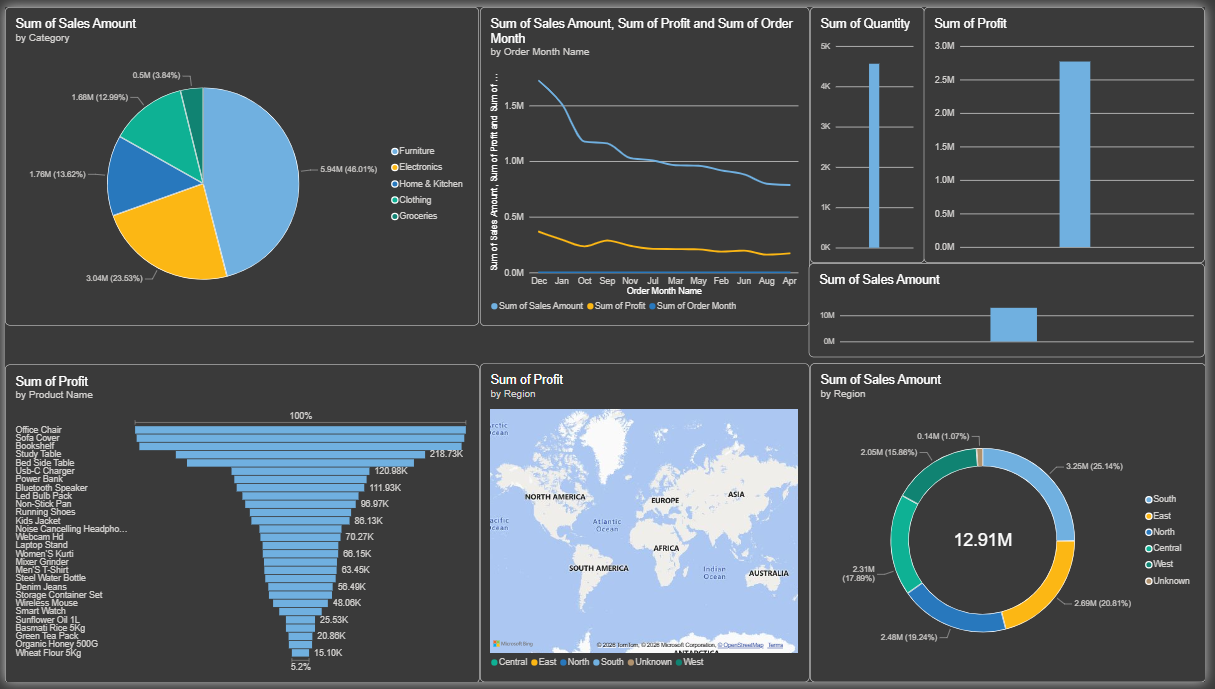

This screenshot's page, from the dashboard's own definition file:
{"tool":"powerbi","page":{"name":"P","canvas":[1920,1080],"ordinal":0},"visuals":[{"type":"donutChart","fields":{"Category":["Sales.Region"],"Y":["Sum(Sales.Sales Amount)"]},"box":[1287.9,570.2,634,510.5],"z":0},{"type":"funnel","fields":{"Category":["Sales.Product Name"],"Y":["Sum(Sales.Profit)"]},"box":[0,572.2,759.5,510.5],"z":1000},{"type":"filledMap","fields":{"Series":["Sales.Region"]},"box":[759.5,570.2,526.9,510.5],"z":2000},{"type":"pieChart","fields":{"Category":["Sales.Category"],"Y":["Sum(Sales.Sales Amount)"]},"box":[0,0,758.7,509.3],"z":3000},{"type":"lineChart","fields":{"Category":["Sales.Order Month Name"],"Y":["Sum(Sales.Sales Amount)","Sum(Sales.Profit)","Sum(Sales.Order Month)"]},"box":[759.5,0,527,510],"z":4000},{"type":"clusteredColumnChart","fields":{"Y":["Sum(Sales.Sales Amount)"]},"box":[1286.5,410.2,633.5,150],"z":4013},{"type":"clusteredColumnChart","fields":{"Y":["Sum(Sales.Quantity)"]},"box":[1287.2,0,183.1,409.9],"z":4014},{"type":"clusteredColumnChart","fields":{"Y":["Sum(Sales.Profit)"]},"box":[1470.4,0,449.6,409.9],"z":4015}]}

Visuals, with their boxes in screenshot pixels (x1, y1, x2, y2), scaled from the page's 1920x1080 canvas onto the 1215x689 screenshot:
donutChart - Sales.Region x Sum(Sales.Sales Amount): left=815, top=364, right=1214, bottom=688
funnel - Sales.Product Name x Sum(Sales.Profit): left=0, top=365, right=481, bottom=688
filledMap - Sales.Region: left=481, top=364, right=814, bottom=688
pieChart - Sales.Category x Sum(Sales.Sales Amount): left=0, top=0, right=480, bottom=325
lineChart - Sales.Order Month Name x Sum(Sales.Sales Amount): left=481, top=0, right=814, bottom=325
clusteredColumnChart - Sum(Sales.Sales Amount): left=814, top=262, right=1214, bottom=357
clusteredColumnChart - Sum(Sales.Quantity): left=815, top=0, right=930, bottom=262
clusteredColumnChart - Sum(Sales.Profit): left=930, top=0, right=1214, bottom=262
